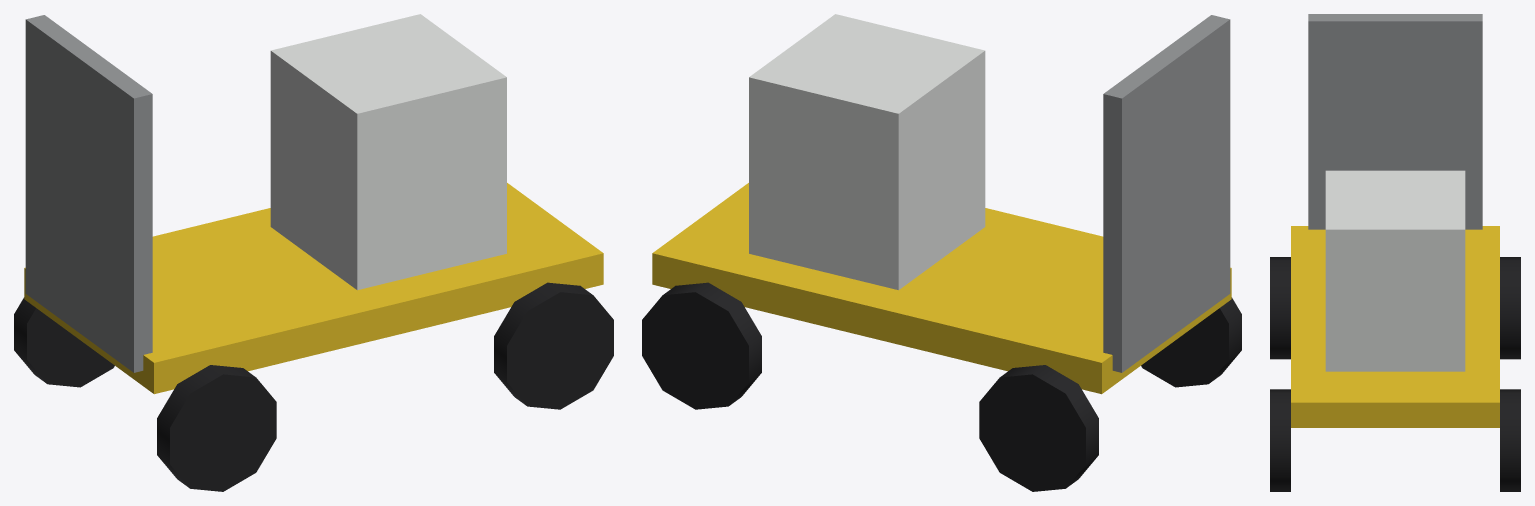
The model's file is tf_restripe_paint_cart.glb.
The picture shows the model from 3 angles, left to right: view 1: azimuth 30°, elevation 25°; view 2: azimuth 150°, elevation 25°; view 3: azimuth 270°, elevation 25°; orthographic projection. The views are drawn at different scales.
Visible parts, largest first — view 1: tf_restripe_paint_cart; view 2: tf_restripe_paint_cart; view 3: tf_restripe_paint_cart.
Part boxes in pixels (left/top/right/bottom): tf_restripe_paint_cart: left=14, top=14, right=613, bottom=491; tf_restripe_paint_cart: left=642, top=14, right=1241, bottom=491; tf_restripe_paint_cart: left=1270, top=14, right=1520, bottom=491.
Bounding box in the file's own units: 1.23 × 1 × 0.72.
